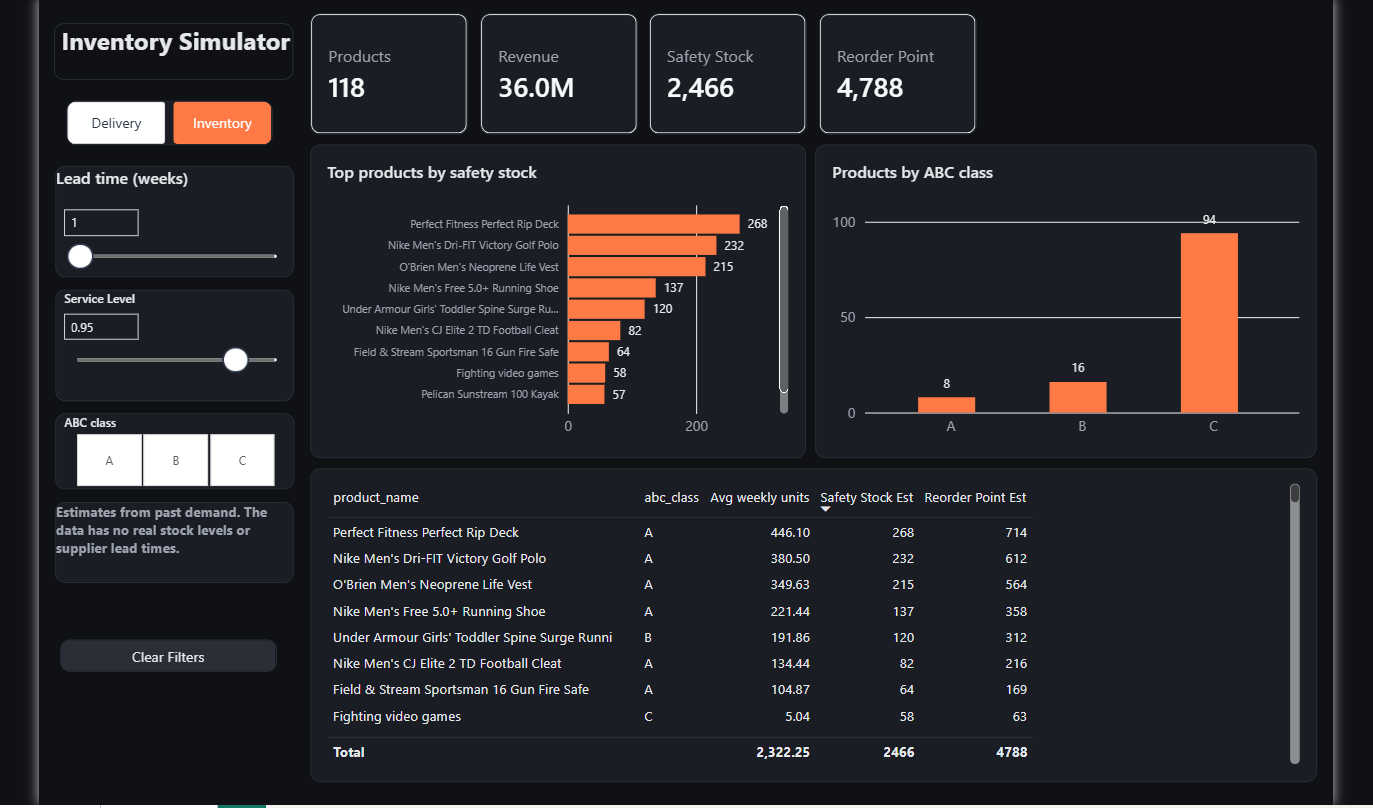

This screenshot's page, from the dashboard's own definition file:
{"tool":"powerbi","page":{"name":"Inventory ","canvas":[1280,800],"ordinal":1},"visuals":[{"type":"slicer","title":"Lead time (weeks)","fields":{"Values":["Leads Weeks.Leads Weeks"]},"box":[15.7,167.1,236,110],"z":0},{"type":"slicer","fields":{"Values":["Service Level.Service Level"]},"box":[15.7,290,236,110],"z":1000},{"type":"tableEx","fields":{"Values":["inventory_priority.product_name","inventory_priority.abc_class","Sum(inventory_priority.avg_weekly_units)","inventory_priority.Safety Stock Est","inventory_priority.Reorder Point Est"]},"box":[268,466,996,310],"z":2000},{"type":"clusteredBarChart","title":"Top  products by safety stock","fields":{"Category":["inventory_priority.product_name"],"Y":["inventory_priority.Safety Stock Est"]},"box":[268,146,490,310],"z":3000},{"type":"textbox","box":[14.3,25.7,237.1,55.7],"z":4000},{"type":"textbox","box":[16,500,236,80],"z":5000},{"type":"cardVisual","fields":{"Data":["inventory_priority.Products"]},"box":[268,16.7,156,120],"z":6000},{"type":"cardVisual","fields":{"Data":["inventory_priority.Revenue Text"]},"box":[436,16,156,120],"z":7000},{"type":"cardVisual","fields":{"Data":["inventory_priority.Safety Stock Text"]},"box":[604,16,156,120],"z":8000},{"type":"cardVisual","fields":{"Data":["inventory_priority.Reorder Point Text"]},"box":[772,16,156,120],"z":9000},{"type":"clusteredColumnChart","title":"Products by ABC class","fields":{"Category":["inventory_priority.abc_class"],"Y":["inventory_priority.Products"]},"box":[768,146,496,310],"z":10000},{"type":"slicer","fields":{"Values":["inventory_priority.abc_class"]},"box":[15.7,412,236.9,75],"z":11000},{"type":"actionButton","box":[21.4,635.7,214,32],"z":12000},{"type":"pageNavigator","box":[27.1,102.9,204,44],"z":13000}]}

Visuals, with their boxes on the page's 1280x800 design canvas (x1, y1, x2, y2). These are canvas units, not pixel positions in the 1373x808 screenshot, which may show the page scaled, cropped or inside an application window:
"Lead time (weeks)" slicer: bbox(16, 167, 252, 277)
slicer - Service Level.Service Level: bbox(16, 290, 252, 400)
tableEx - inventory_priority.product_name x inventory_priority.abc_class: bbox(268, 466, 1264, 776)
"Top  products by safety stock" clusteredBarChart: bbox(268, 146, 758, 456)
textbox: bbox(14, 26, 251, 81)
textbox: bbox(16, 500, 252, 580)
cardVisual - inventory_priority.Products: bbox(268, 17, 424, 137)
cardVisual - inventory_priority.Revenue Text: bbox(436, 16, 592, 136)
cardVisual - inventory_priority.Safety Stock Text: bbox(604, 16, 760, 136)
cardVisual - inventory_priority.Reorder Point Text: bbox(772, 16, 928, 136)
"Products by ABC class" clusteredColumnChart: bbox(768, 146, 1264, 456)
slicer - inventory_priority.abc_class: bbox(16, 412, 253, 487)
actionButton: bbox(21, 636, 235, 668)
pageNavigator: bbox(27, 103, 231, 147)
